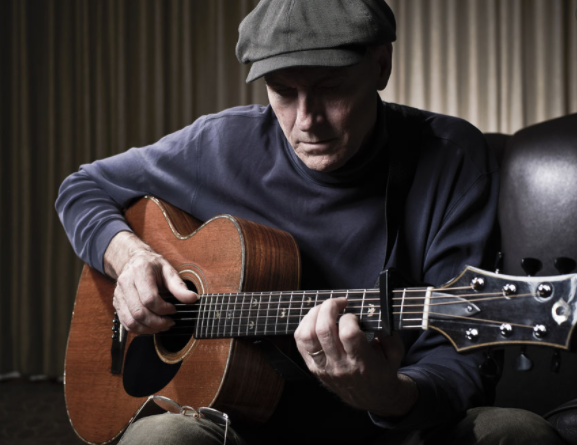fretboard: (194, 287, 431, 339)
